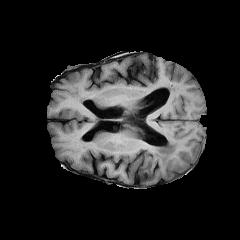glioma: (143, 132, 179, 173)
